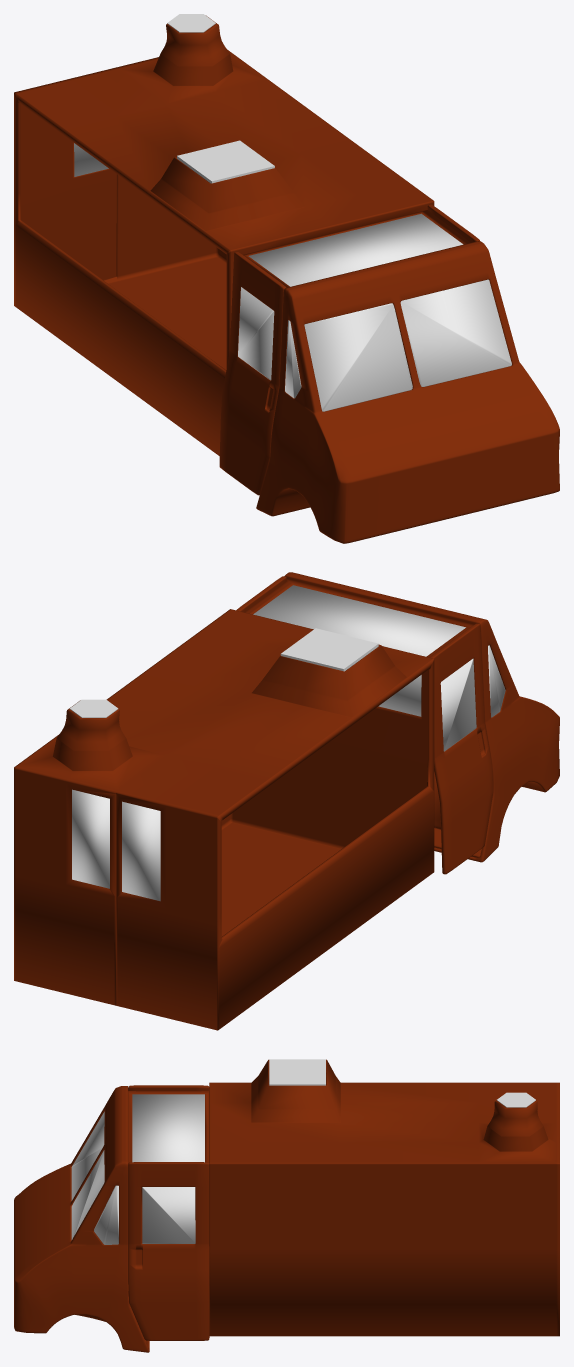
Rendered from Tru_INside1.fbx.
3 views of the same model, one above another, from view 1: azimuth 30°, elevation 25°; view 2: azimuth 150°, elevation 25°; view 3: azimuth 270°, elevation 25° (orthographic). The views are drawn at different scales.
Visible parts, largest first — view 1: Cube, Cube.001; view 2: Cube, Cube.001; view 3: Cube, Cube.001.
Boxes of the visible parts, <box> form: Cube: <box>14,15,559,543</box>; Cube.001: <box>74,14,511,411</box>; Cube: <box>14,572,559,1030</box>; Cube.001: <box>69,585,505,901</box>; Cube: <box>14,1059,559,1352</box>; Cube.001: <box>71,1059,535,1244</box>.
Bounding box in the file's own units: 223 × 263 × 572.
